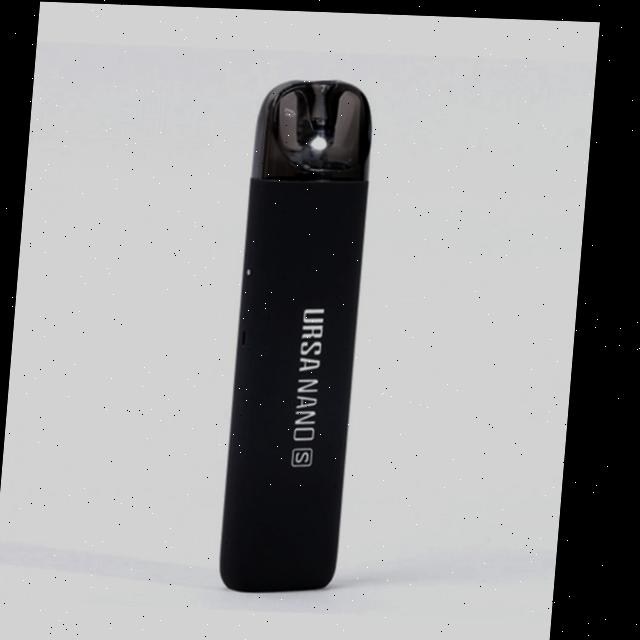vape: (225, 76, 379, 595)
